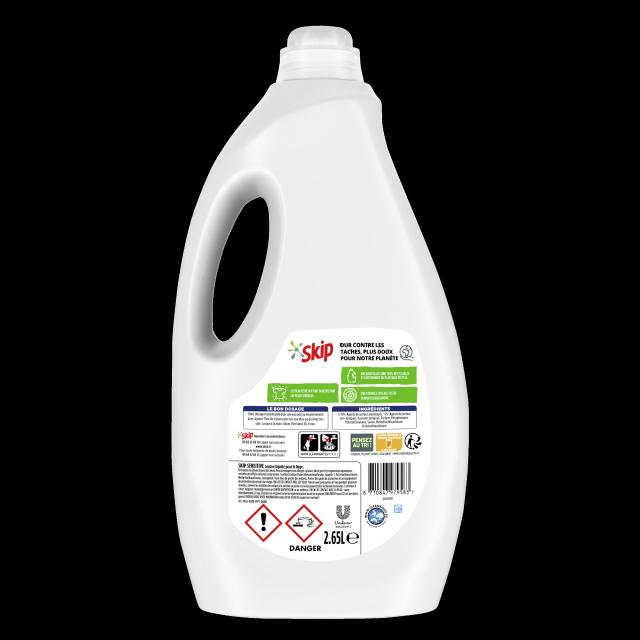GHS_Symbol_CORROSION: (284, 503, 323, 543)
GHS_Symbol_EXCLAMATION_MARK: (244, 503, 282, 542)
